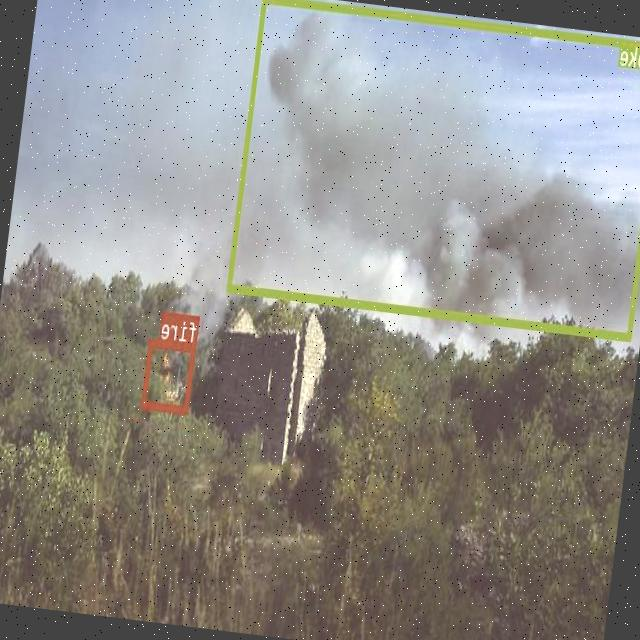fire: (141, 338, 196, 412)
smoke: (227, 0, 640, 340)
